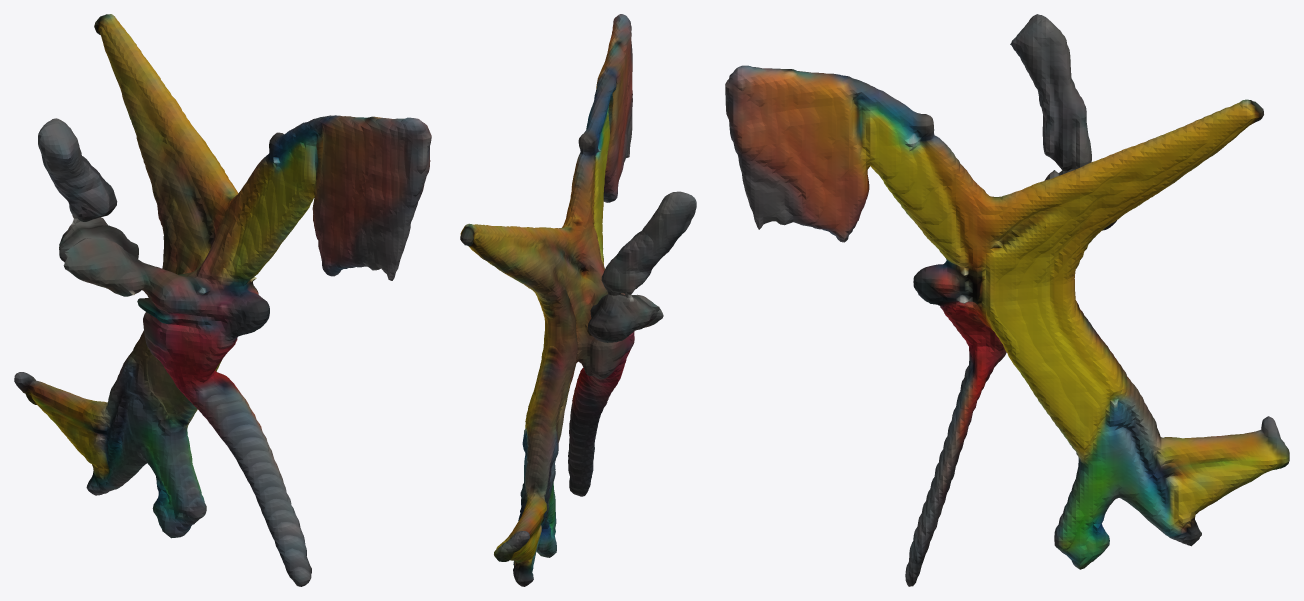
3 views of the same model, side by side, from view 1: azimuth 30°, elevation 25°; view 2: azimuth 150°, elevation 25°; view 3: azimuth 270°, elevation 25° (orthographic). The views are drawn at different scales.
Bounding box in the file's own units: 0.4624 × 0.9412 × 0.9.
